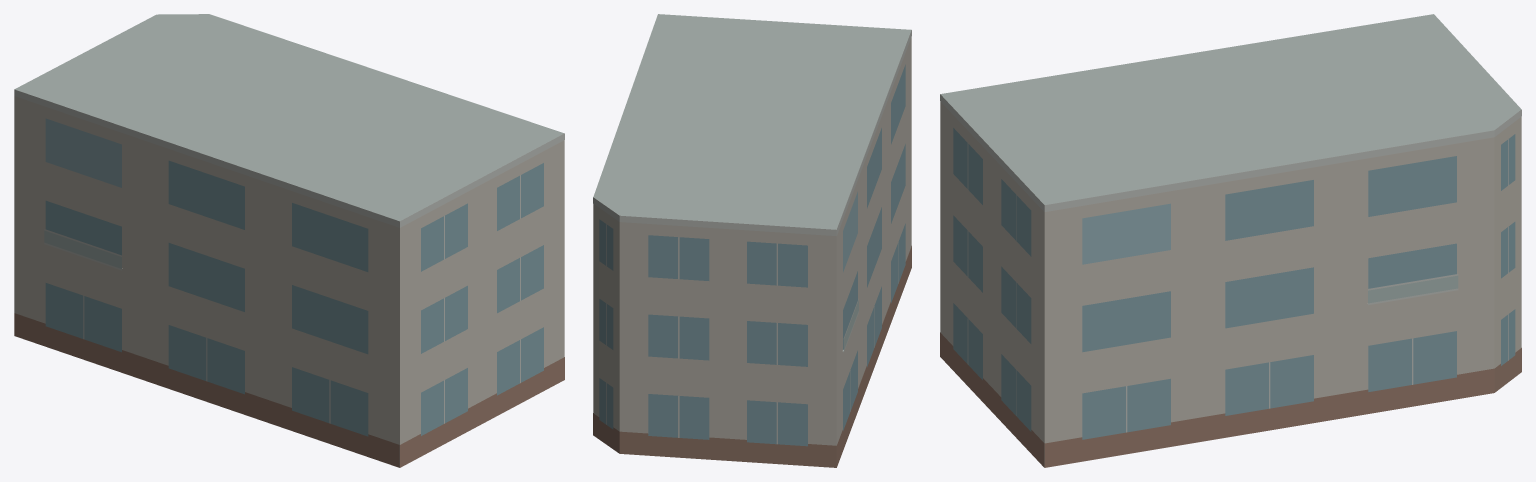
Rendered from survey-upis-32698460.glb.
3 renders of one model, left to right at view 1: azimuth 30°, elevation 25°; view 2: azimuth 150°, elevation 25°; view 3: azimuth 270°, elevation 25°, orthographic. The views are drawn at different scales.
Visible parts, largest first — view 1: survey-upis-32698460.tmp; view 2: survey-upis-32698460.tmp; view 3: survey-upis-32698460.tmp.
Boxes of the visible parts, left/top/right/bottom form: survey-upis-32698460.tmp: left=14, top=14, right=564, bottom=467; survey-upis-32698460.tmp: left=593, top=14, right=911, bottom=467; survey-upis-32698460.tmp: left=940, top=14, right=1521, bottom=467.
Size of the model in its own units: 14.29 by 9.15 by 18.37.
